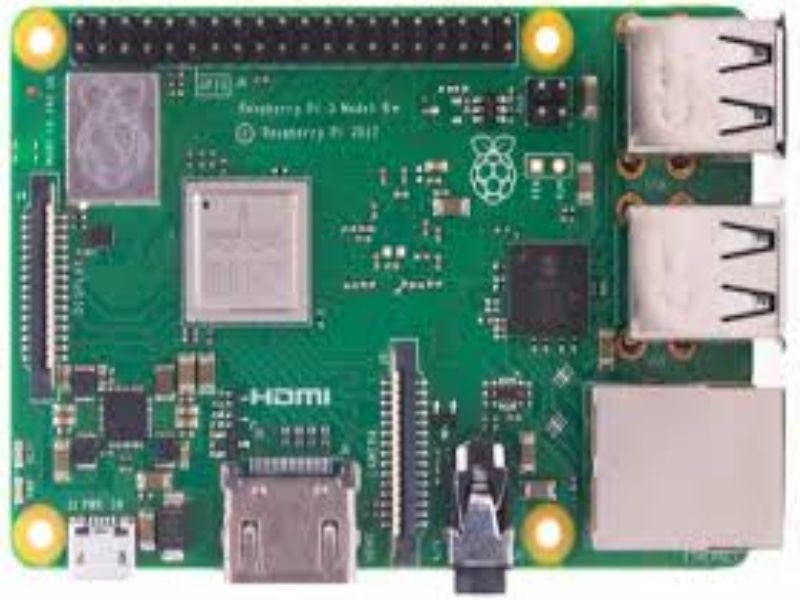raspberrypi: (3, 9, 766, 577)
